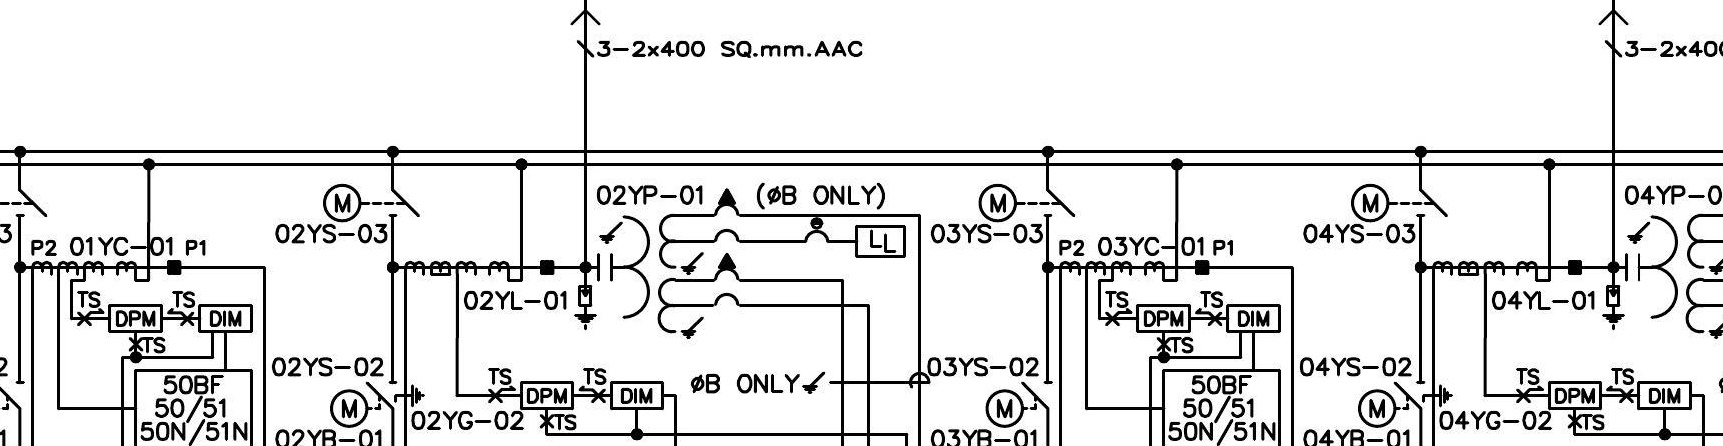115_1way_ds_w_motor: (322, 182, 421, 223), (978, 182, 1076, 223), (1350, 182, 1448, 223), (985, 380, 1054, 430)
115_3ways_ds_w_motor: (330, 380, 426, 430), (1357, 380, 1454, 430)
115_cvt_1p: (597, 188, 742, 341)
115_la: (574, 285, 598, 331), (1601, 285, 1625, 331)
DIM: (198, 303, 254, 333), (1225, 303, 1281, 333), (610, 381, 665, 411), (1637, 381, 1692, 411)
DPM: (108, 303, 164, 334), (1135, 303, 1191, 334), (520, 380, 575, 410), (1547, 381, 1602, 411)
LL: (855, 225, 907, 258)
